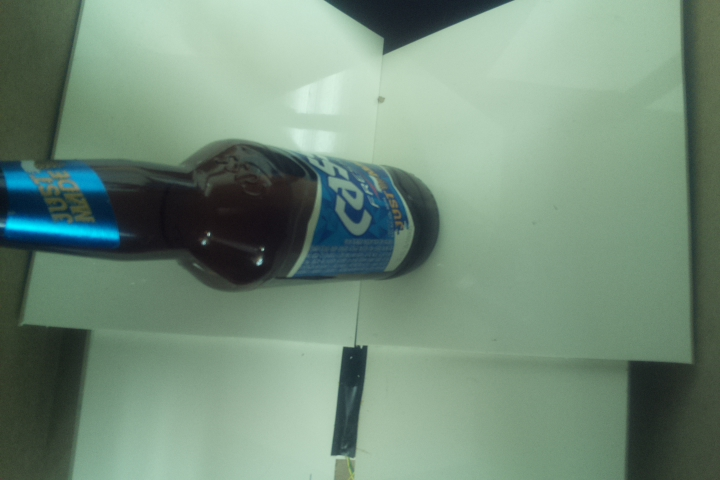makju: (1, 137, 440, 293)
